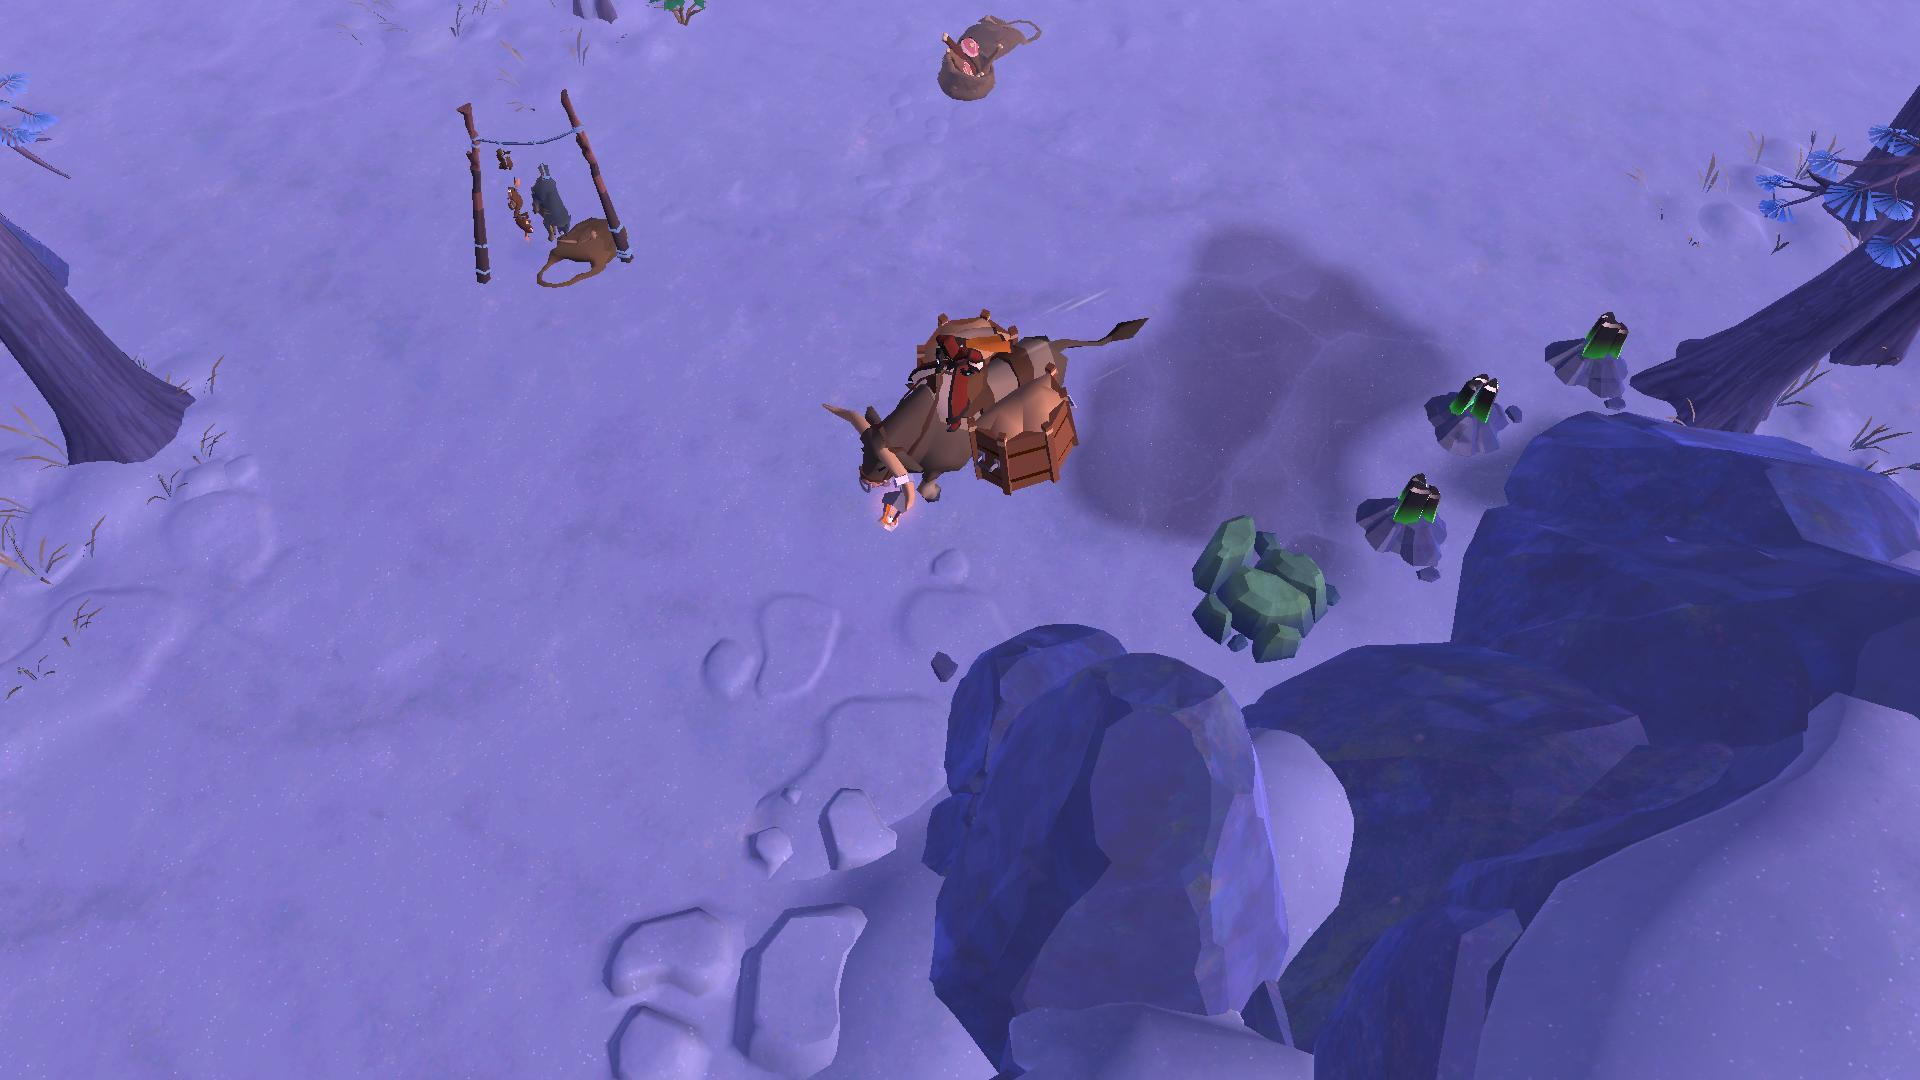ore_t3: (1576, 305, 1626, 373), (1436, 369, 1501, 422), (1389, 472, 1443, 530)
rock_t3: (1171, 509, 1341, 661)
